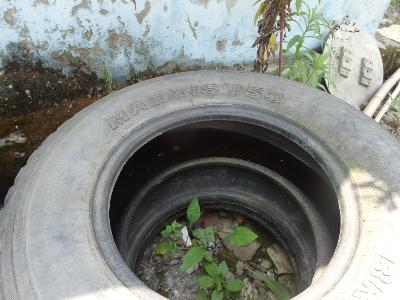tire: (1, 68, 398, 298)
